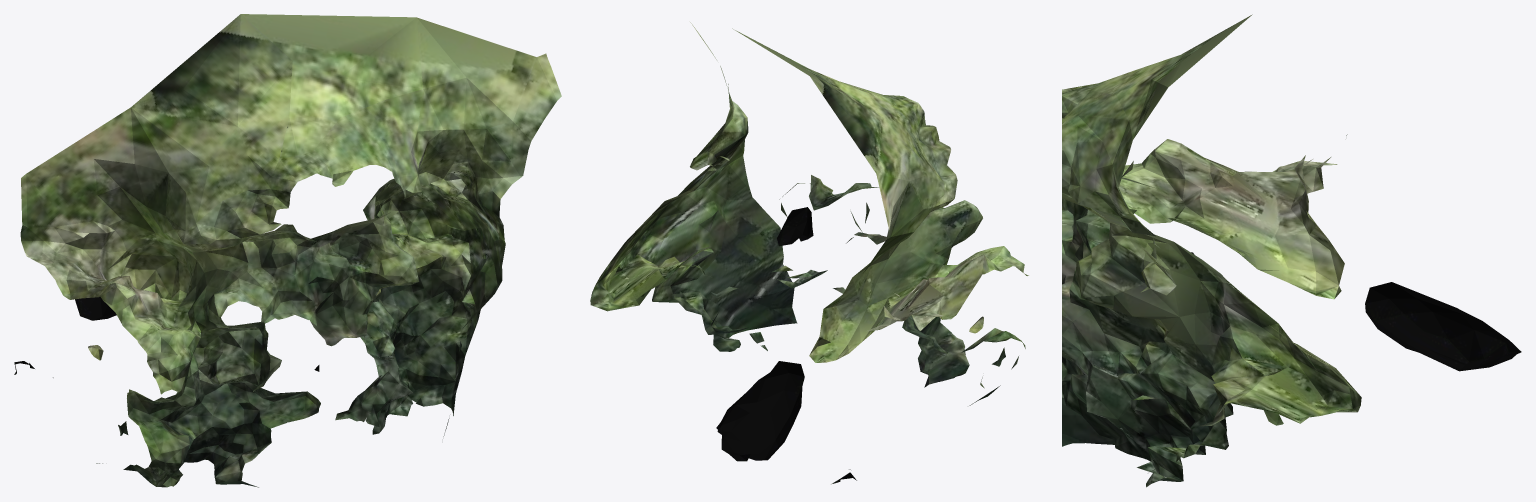
3 views of the same model, side by side, from view 1: azimuth 30°, elevation 25°; view 2: azimuth 150°, elevation 25°; view 3: azimuth 270°, elevation 25° (orthographic). The views are drawn at different scales.
Bounding box in the file's own units: 26.11 × 24.13 × 25.24.
4 materials, 4 textured.
